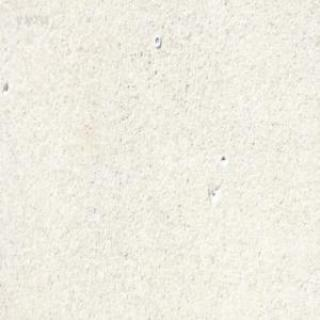Washertrack_idkeyframe: (153, 34, 160, 47)
